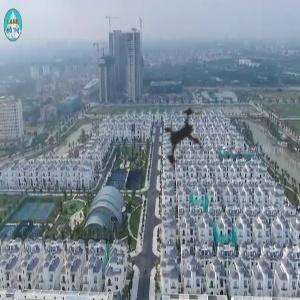drone: (124, 77, 243, 196)
